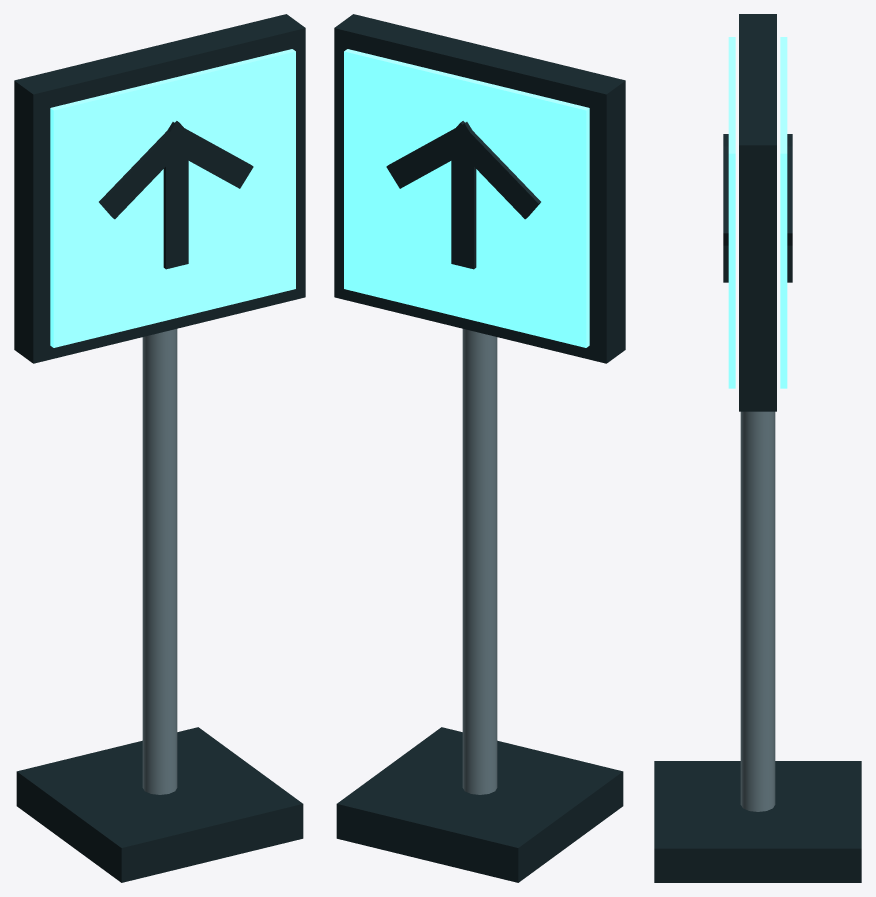
Rendered from route-jump-post.glb.
The picture shows the model from 3 angles, left to right: view 1: azimuth 30°, elevation 25°; view 2: azimuth 150°, elevation 25°; view 3: azimuth 270°, elevation 25°; orthographic projection.
Visible parts, largest first — view 1: route-jump-post; view 2: route-jump-post; view 3: route-jump-post.
Boxes of the visible parts, x1,y1,x2,y2 form: route-jump-post: (14, 14, 305, 882); route-jump-post: (334, 14, 625, 882); route-jump-post: (654, 14, 861, 882).
Size of the model in its own units: 1.8 by 4.85 by 1.2.
